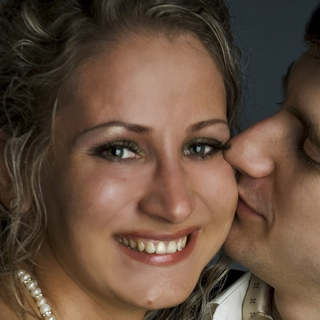eye: (86, 139, 147, 166), (177, 136, 222, 162)
